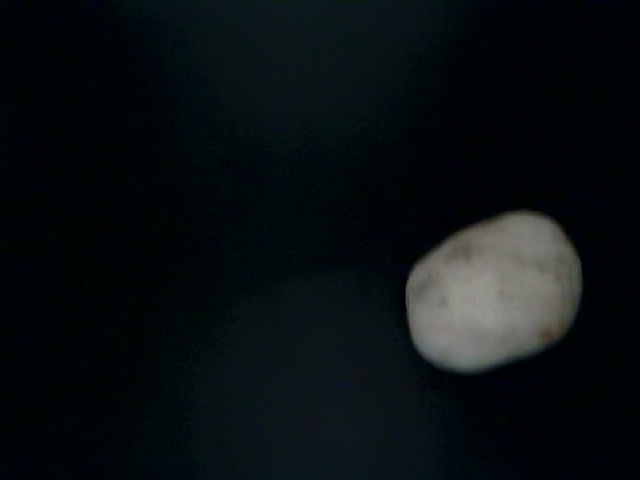QTLJ: (212, 189, 423, 454)
